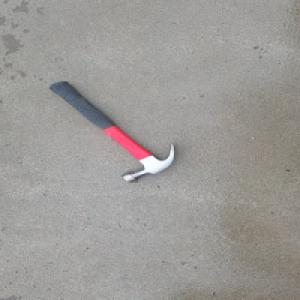Hammer: (45, 79, 176, 183)
